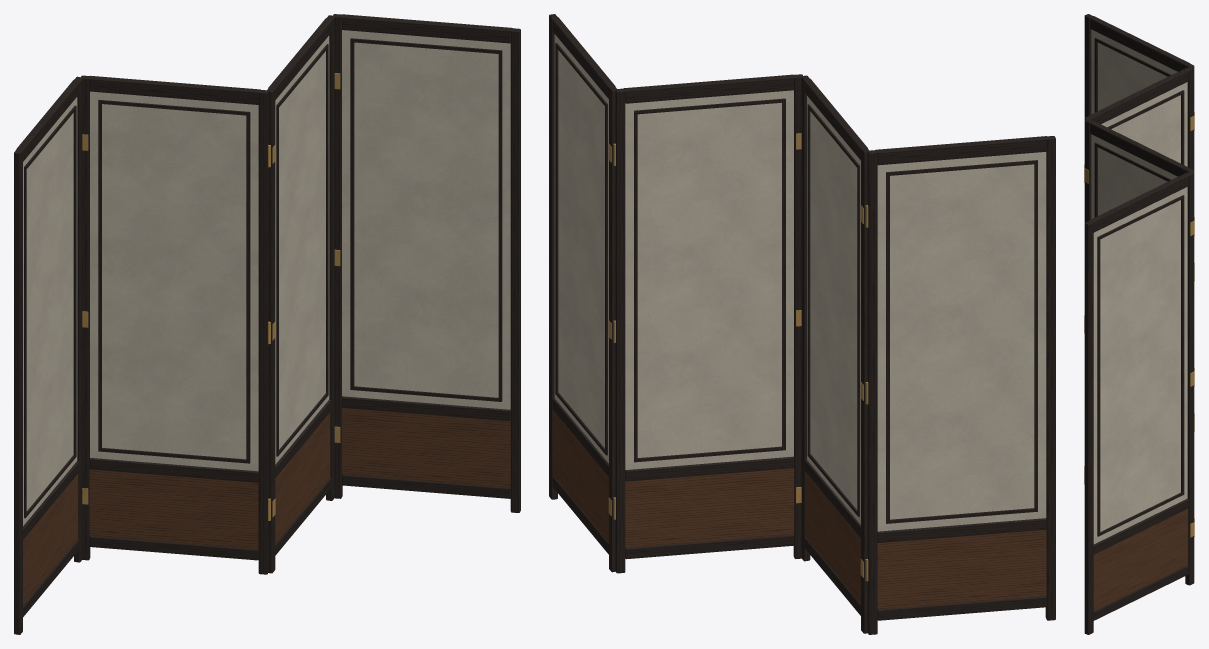
The model's file is folding_screen.glb.
3 renders of one model, left to right at view 1: azimuth 30°, elevation 25°; view 2: azimuth 150°, elevation 25°; view 3: azimuth 270°, elevation 25°, orthographic. The views are drawn at different scales.
Visible parts, largest first — view 1: paper_4_paper_hanji_0, paper_2_paper_hanji_0, paper_3_paper_hanji_0, paper_1_paper_hanji_0, frame_2_wood_walnut_6, frame_4_wood_walnut_6, frame_4_wood_ebony_1, frame_2_wood_ebony_1, frame_1_wood_ebony_0, frame_1_wood_walnut_6, frame_3_wood_walnut_6, frame_2_wood_ebony_0 (+25 smaller); view 2: paper_1_paper_hanji_0, paper_3_paper_hanji_0, paper_4_paper_hanji_0, paper_2_paper_hanji_0, frame_1_wood_walnut_6, frame_3_wood_walnut_6, frame_3_wood_ebony_1, frame_1_wood_ebony_1, frame_1_wood_ebony_0, frame_4_wood_walnut_6, frame_2_wood_walnut_6, frame_3_wood_ebony_0 (+25 smaller); view 3: paper_4_paper_hanji_0, frame_4_wood_walnut_6, frame_4_wood_ebony_1, paper_2_paper_hanji_0, paper_3_paper_hanji_0, paper_1_paper_hanji_0, frame_4_wood_ebony_0, frame_4_wood_ebony_9, frame_4_wood_ebony_7, frame_4_wood_ebony_4, frame_4_wood_ebony_3, frame_4_wood_ebony_2 (+18 smaller).
Part boxes in pixels (x1=…): paper_4_paper_hanji_0: x1=342, y1=30, x2=510, y2=409; paper_2_paper_hanji_0: x1=90, y1=91, x2=258, y2=471; paper_3_paper_hanji_0: x1=275, y1=35, x2=329, y2=464; paper_1_paper_hanji_0: x1=23, y1=97, x2=77, y2=525; frame_2_wood_walnut_6: x1=89, y1=469, x2=258, y2=549; frame_4_wood_walnut_6: x1=342, y1=407, x2=510, y2=487; frame_4_wood_ebony_1: x1=510, y1=28, x2=520, y2=512; frame_2_wood_ebony_1: x1=258, y1=90, x2=268, y2=574; frame_1_wood_ebony_0: x1=14, y1=149, x2=22, y2=634; frame_1_wood_walnut_6: x1=23, y1=473, x2=78, y2=604; frame_3_wood_walnut_6: x1=275, y1=412, x2=330, y2=543; frame_2_wood_ebony_0: x1=81, y1=75, x2=90, y2=560; paper_1_paper_hanji_0: x1=877, y1=152, x2=1046, y2=531; paper_3_paper_hanji_0: x1=625, y1=90, x2=793, y2=469; paper_4_paper_hanji_0: x1=554, y1=34, x2=608, y2=463; paper_2_paper_hanji_0: x1=807, y1=96, x2=860, y2=524; frame_1_wood_walnut_6: x1=877, y1=529, x2=1046, y2=609; frame_3_wood_walnut_6: x1=625, y1=468, x2=794, y2=548; frame_3_wood_ebony_1: x1=615, y1=88, x2=625, y2=573; frame_1_wood_ebony_1: x1=867, y1=150, x2=877, y2=634; frame_1_wood_ebony_0: x1=1045, y1=136, x2=1055, y2=620; frame_4_wood_walnut_6: x1=553, y1=411, x2=608, y2=542; frame_2_wood_walnut_6: x1=806, y1=472, x2=860, y2=603; frame_3_wood_ebony_0: x1=793, y1=74, x2=802, y2=558; paper_4_paper_hanji_0: x1=1093, y1=187, x2=1187, y2=544; frame_4_wood_walnut_6: x1=1093, y1=508, x2=1188, y2=610; frame_4_wood_ebony_1: x1=1084, y1=221, x2=1093, y2=634; paper_2_paper_hanji_0: x1=1101, y1=82, x2=1187, y2=166; paper_3_paper_hanji_0: x1=1091, y1=134, x2=1177, y2=218; paper_1_paper_hanji_0: x1=1091, y1=29, x2=1177, y2=114; frame_4_wood_ebony_0: x1=1185, y1=171, x2=1194, y2=585; frame_4_wood_ebony_9: x1=1097, y1=236, x2=1100, y2=536; frame_4_wood_ebony_7: x1=1181, y1=195, x2=1184, y2=495; frame_4_wood_ebony_4: x1=1093, y1=498, x2=1188, y2=554; frame_4_wood_ebony_3: x1=1093, y1=565, x2=1188, y2=620; frame_4_wood_ebony_2: x1=1093, y1=177, x2=1188, y2=232.
Size of what is drawn, in the model's own units: 1.98 by 1.8 by 0.4386.
4 materials, 4 textured.
